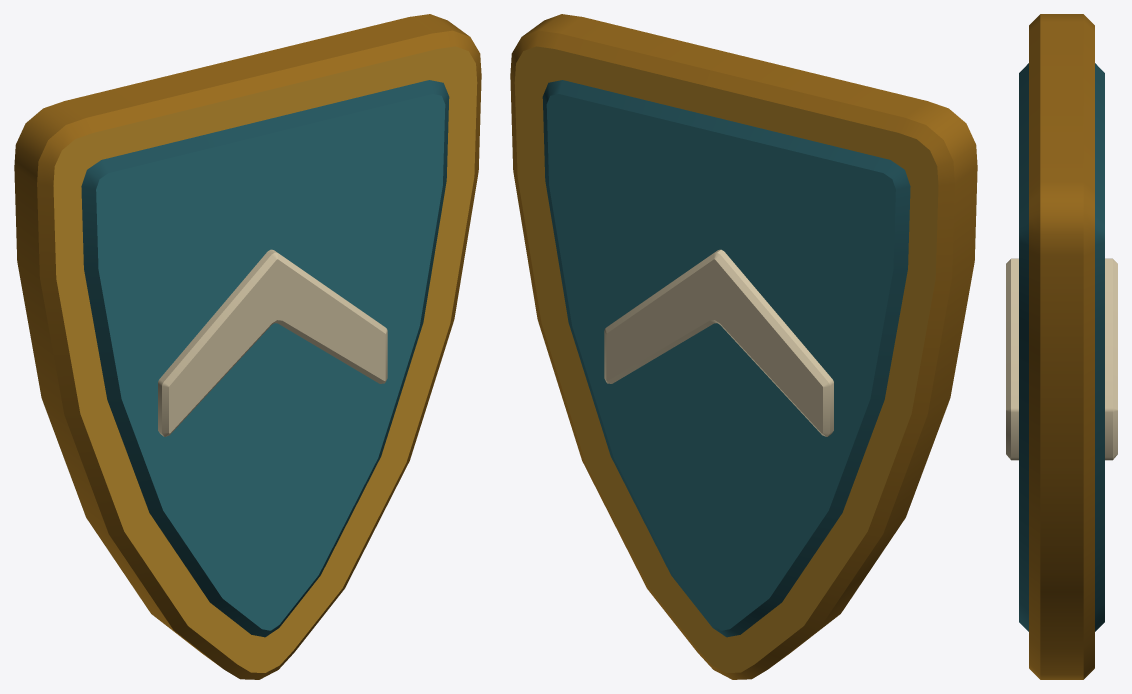
Rendered from Badge_05.glb.
The picture shows the model from 3 angles, left to right: view 1: azimuth 30°, elevation 25°; view 2: azimuth 150°, elevation 25°; view 3: azimuth 270°, elevation 25°; orthographic projection. The views are drawn at different scales.
Visible parts, largest first — view 1: Badge_05; view 2: Badge_05; view 3: Badge_05.
Part boxes in pixels (x1,y1,x2,y2): Badge_05: (14, 14, 481, 679); Badge_05: (510, 14, 977, 679); Badge_05: (1006, 14, 1117, 679).
Bounding box in the file's own units: 1.92 × 2.5 × 0.44.
